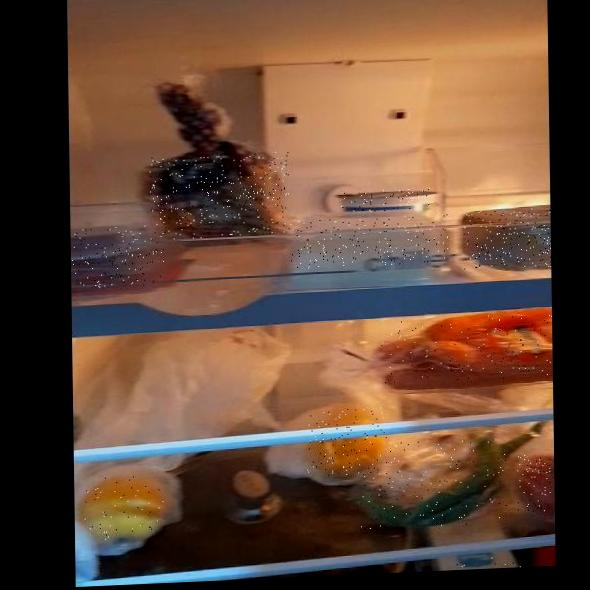bread: (150, 151, 290, 240)
butter: (464, 208, 551, 271)
carrot: (380, 313, 553, 386)
cheese: (290, 214, 448, 269)
green chilies: (359, 438, 507, 529)
lemon: (307, 407, 388, 477), (81, 475, 166, 541)
milk: (433, 555, 527, 571)
salami: (70, 225, 164, 289)
tomato: (517, 454, 555, 513)
yoghurt: (339, 188, 438, 213)
